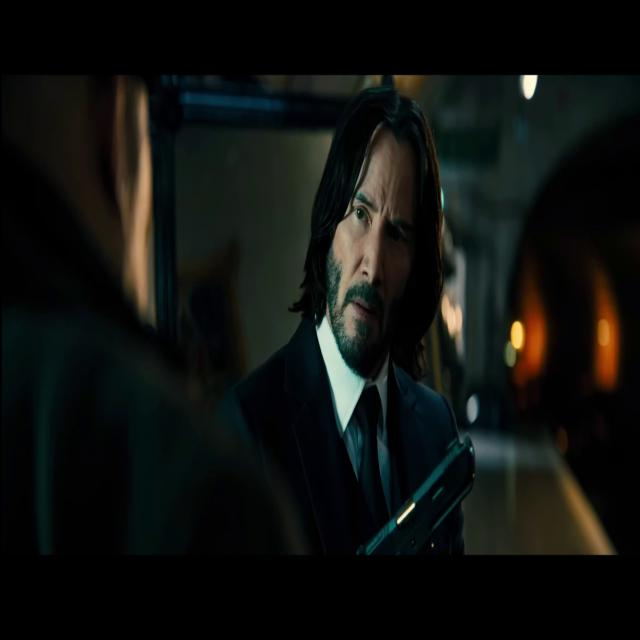weapons: (342, 421, 481, 556)
